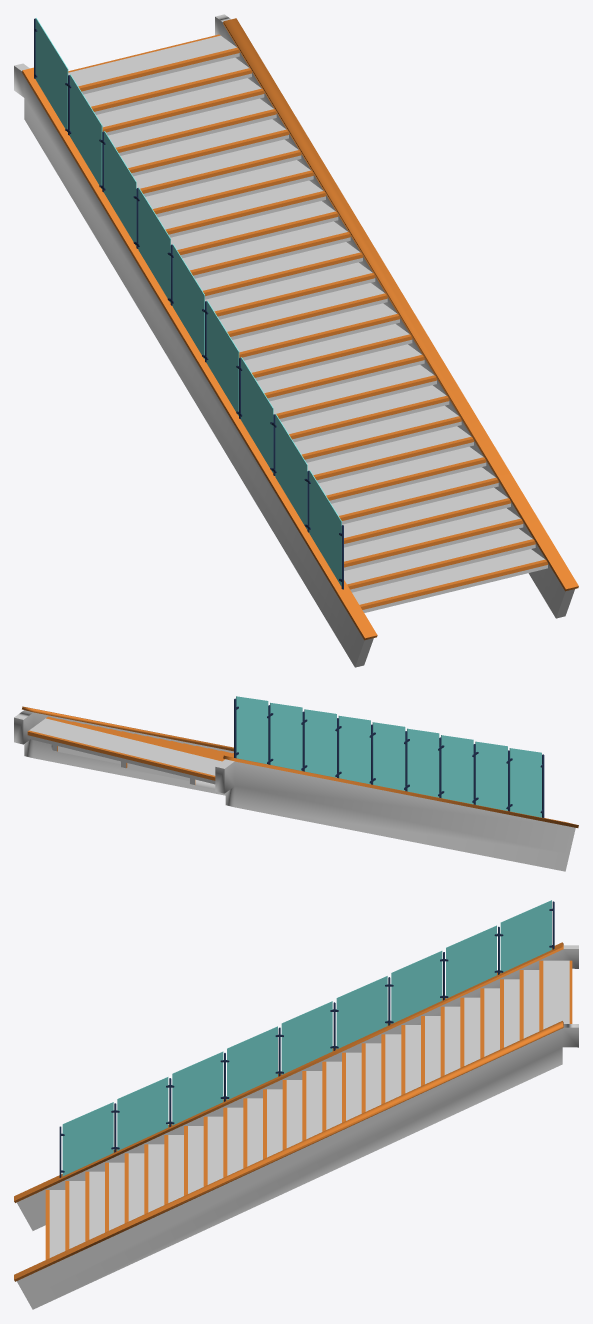
Rendered from Park Stairs.fbx.
3 views of the same model, one above another, from view 1: azimuth 30°, elevation 25°; view 2: azimuth 150°, elevation 25°; view 3: azimuth 270°, elevation 25° (orthographic). The views are drawn at different scales.
Visible parts, largest first — view 1: Cube, Cube.006, Rail.003, Rail End B.001; view 2: Cube.006, Rail.003, Cube, Rail End B.001; view 3: Cube, Cube.006, Rail.003, Rail End B.001.
Boxes of the visible parts, x1,y1,x2,y2 form: Cube: (68, 34, 547, 612); Cube.006: (14, 14, 578, 667); Rail.003: (65, 74, 341, 586); Rail End B.001: (34, 18, 343, 589); Cube.006: (14, 706, 578, 871); Rail.003: (267, 702, 541, 817); Cube: (27, 716, 233, 784); Rail End B.001: (234, 696, 544, 817); Cube: (45, 960, 572, 1259); Cube.006: (14, 942, 578, 1309); Rail.003: (62, 925, 503, 1176); Rail End B.001: (59, 900, 554, 1177).
Bounding box in the file's own units: 305 × 560 × 871.
